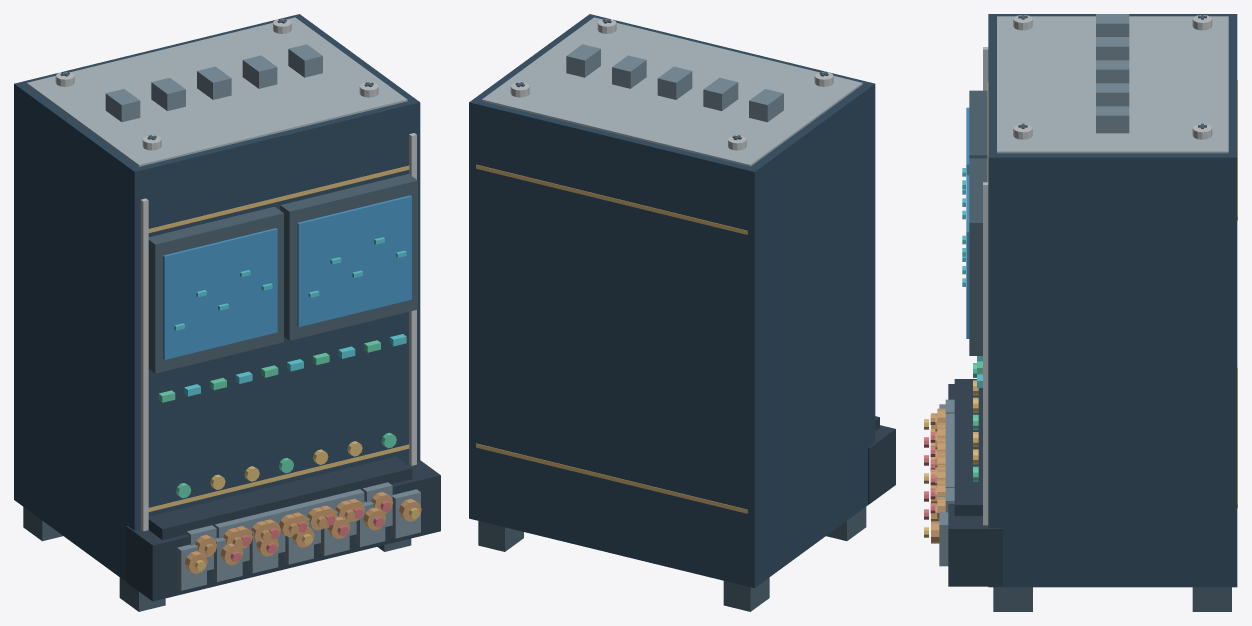
File: 31_L76_MultiZoneCurrentDistributionController.glb
3 views of the same model, side by side, from view 1: azimuth 30°, elevation 25°; view 2: azimuth 150°, elevation 25°; view 3: azimuth 270°, elevation 25° (orthographic). The views are drawn at different scales.
Visible parts, largest first — view 1: MultiZoneCurrentDistributionController_Node_0000, MultiZoneCurrentDistributionController_Node_0007, MultiZoneCurrentDistributionController_Node_0025, MultiZoneCurrentDistributionController_Node_0032, MultiZoneCurrentDistributionController_Node_0024, MultiZoneCurrentDistributionController_Node_0049, MultiZoneCurrentDistributionController_Node_0031, MultiZoneCurrentDistributionController_Node_0005, MultiZoneCurrentDistributionController_Node_0100, MultiZoneCurrentDistributionController_Node_0006, MultiZoneCurrentDistributionController_Node_0086, MultiZoneCurrentDistributionController_Node_0021 (+18 smaller); view 2: MultiZoneCurrentDistributionController_Node_0000, MultiZoneCurrentDistributionController_Node_0007, MultiZoneCurrentDistributionController_Node_0049, MultiZoneCurrentDistributionController_Node_0022, MultiZoneCurrentDistributionController_Node_0020, MultiZoneCurrentDistributionController_Node_0045, MultiZoneCurrentDistributionController_Node_0047, MultiZoneCurrentDistributionController_Node_0082, MultiZoneCurrentDistributionController_Node_0083, MultiZoneCurrentDistributionController_Node_0085, MultiZoneCurrentDistributionController_Node_0081, MultiZoneCurrentDistributionController_Node_0084 (+1 smaller); view 3: MultiZoneCurrentDistributionController_Node_0000, MultiZoneCurrentDistributionController_Node_0007, MultiZoneCurrentDistributionController_Node_0049, MultiZoneCurrentDistributionController_Node_0031, MultiZoneCurrentDistributionController_Node_0006, MultiZoneCurrentDistributionController_Node_0024, MultiZoneCurrentDistributionController_Node_0086, MultiZoneCurrentDistributionController_Node_0121, MultiZoneCurrentDistributionController_Node_0107, MultiZoneCurrentDistributionController_Node_0047, MultiZoneCurrentDistributionController_Node_0048, MultiZoneCurrentDistributionController_Node_0085 (+6 smaller).
Part boxes in pixels (<box>): MultiZoneCurrentDistributionController_Node_0000: <box>14,14,420,581</box>; MultiZoneCurrentDistributionController_Node_0007: <box>27,17,407,166</box>; MultiZoneCurrentDistributionController_Node_0025: <box>163,228,277,359</box>; MultiZoneCurrentDistributionController_Node_0032: <box>297,195,411,326</box>; MultiZoneCurrentDistributionController_Node_0024: <box>148,206,283,373</box>; MultiZoneCurrentDistributionController_Node_0049: <box>126,460,440,601</box>; MultiZoneCurrentDistributionController_Node_0031: <box>280,174,417,340</box>; MultiZoneCurrentDistributionController_Node_0005: <box>140,198,148,531</box>; MultiZoneCurrentDistributionController_Node_0100: <box>202,477,327,515</box>; MultiZoneCurrentDistributionController_Node_0006: <box>409,133,416,465</box>; MultiZoneCurrentDistributionController_Node_0086: <box>148,490,259,539</box>; MultiZoneCurrentDistributionController_Node_0021: <box>148,444,409,511</box>; MultiZoneCurrentDistributionController_Node_0000: <box>469,14,875,587</box>; MultiZoneCurrentDistributionController_Node_0007: <box>482,17,862,166</box>; MultiZoneCurrentDistributionController_Node_0049: <box>868,425,895,504</box>; MultiZoneCurrentDistributionController_Node_0022: <box>476,164,747,234</box>; MultiZoneCurrentDistributionController_Node_0020: <box>476,443,747,513</box>; MultiZoneCurrentDistributionController_Node_0045: <box>723,577,769,611</box>; MultiZoneCurrentDistributionController_Node_0047: <box>478,521,523,551</box>; MultiZoneCurrentDistributionController_Node_0082: <box>703,77,738,110</box>; MultiZoneCurrentDistributionController_Node_0083: <box>657,66,692,99</box>; MultiZoneCurrentDistributionController_Node_0085: <box>566,44,600,77</box>; MultiZoneCurrentDistributionController_Node_0081: <box>749,89,783,122</box>; MultiZoneCurrentDistributionController_Node_0084: <box>612,55,646,88</box>; MultiZoneCurrentDistributionController_Node_0000: <box>988,14,1237,587</box>; MultiZoneCurrentDistributionController_Node_0007: <box>997,16,1228,153</box>; MultiZoneCurrentDistributionController_Node_0049: <box>948,384,1002,586</box>; MultiZoneCurrentDistributionController_Node_0031: <box>969,158,987,355</box>; MultiZoneCurrentDistributionController_Node_0006: <box>983,182,988,525</box>; MultiZoneCurrentDistributionController_Node_0024: <box>969,90,987,158</box>; MultiZoneCurrentDistributionController_Node_0086: <box>954,379,982,434</box>; MultiZoneCurrentDistributionController_Node_0121: <box>954,451,982,515</box>; MultiZoneCurrentDistributionController_Node_0107: <box>954,421,982,476</box>; MultiZoneCurrentDistributionController_Node_0047: <box>1192,587,1231,611</box>; MultiZoneCurrentDistributionController_Node_0048: <box>993,587,1032,611</box>; MultiZoneCurrentDistributionController_Node_0085: <box>1096,106,1129,133</box>.
Bounding box in the file's own units: 1.13 × 1.73 × 1.03.
